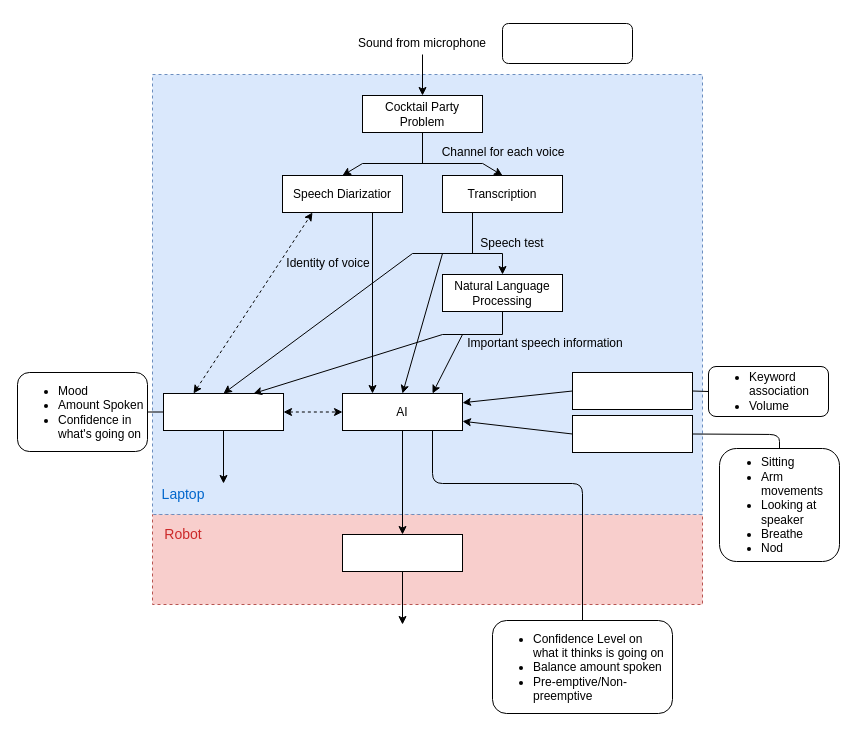
Some shapes in this 857 by 732 pixel diagram are drawn without their labels. The centre of each missing label's shape, as x and y in pixels:
"Action" belongs at (402,553).
"Action Library" belongs at (632,391).
"Always Listens Introduction?" belongs at (567,43).
"Response Library" belongs at (632,433).
"UI" belongs at (223,411).
